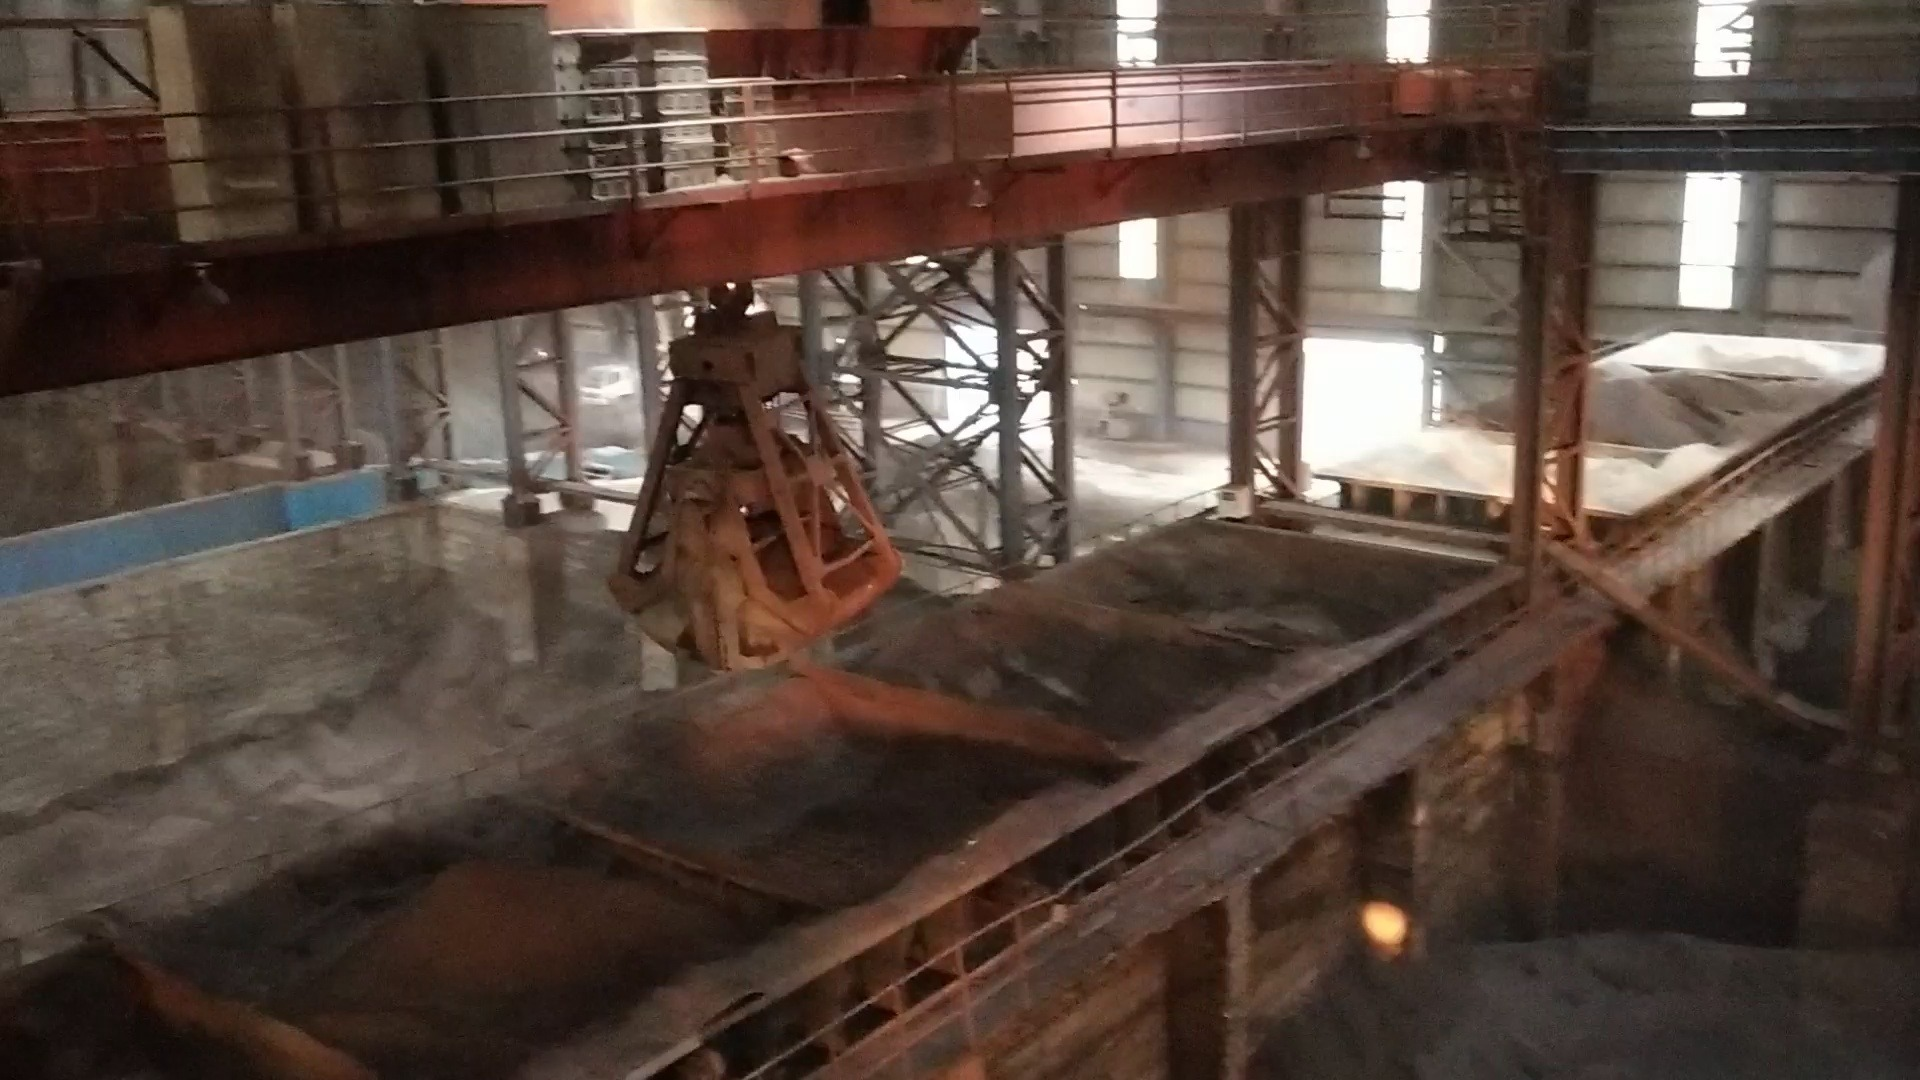grab: (595, 281, 913, 676)
